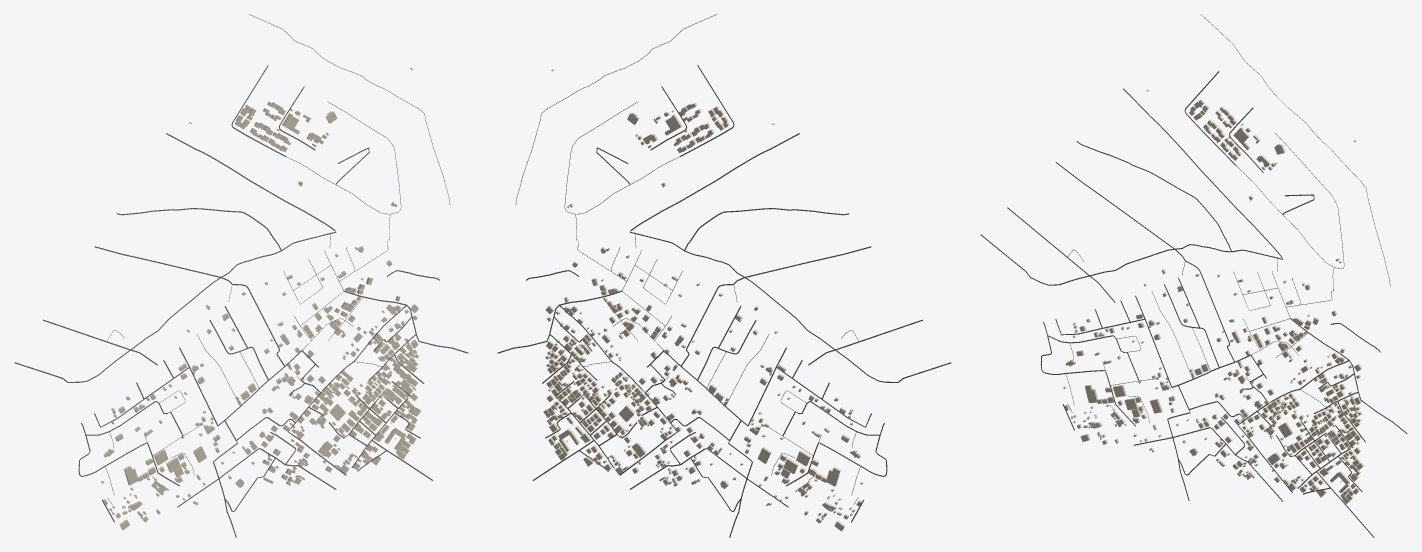
The model's file is historic-palestine-02_20_3438_3146.glb.
3 views of the same model, side by side, from view 1: azimuth 30°, elevation 25°; view 2: azimuth 150°, elevation 25°; view 3: azimuth 330°, elevation 25° (orthographic). The views are drawn at different scales.
Size of the model in its own units: 1370 by 1501 by 8.7.
